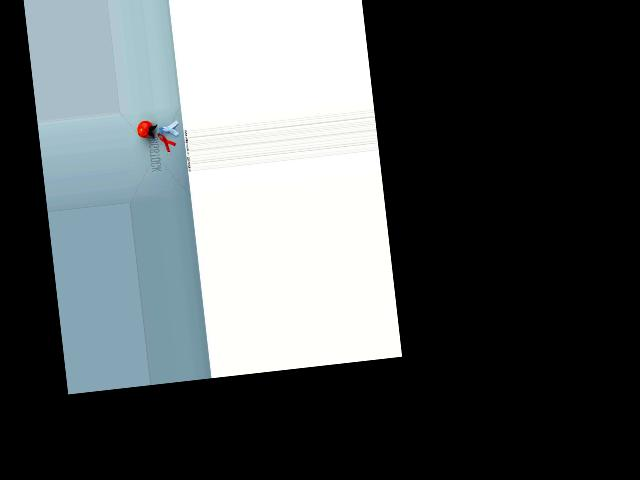tomato: (136, 120, 154, 139)
